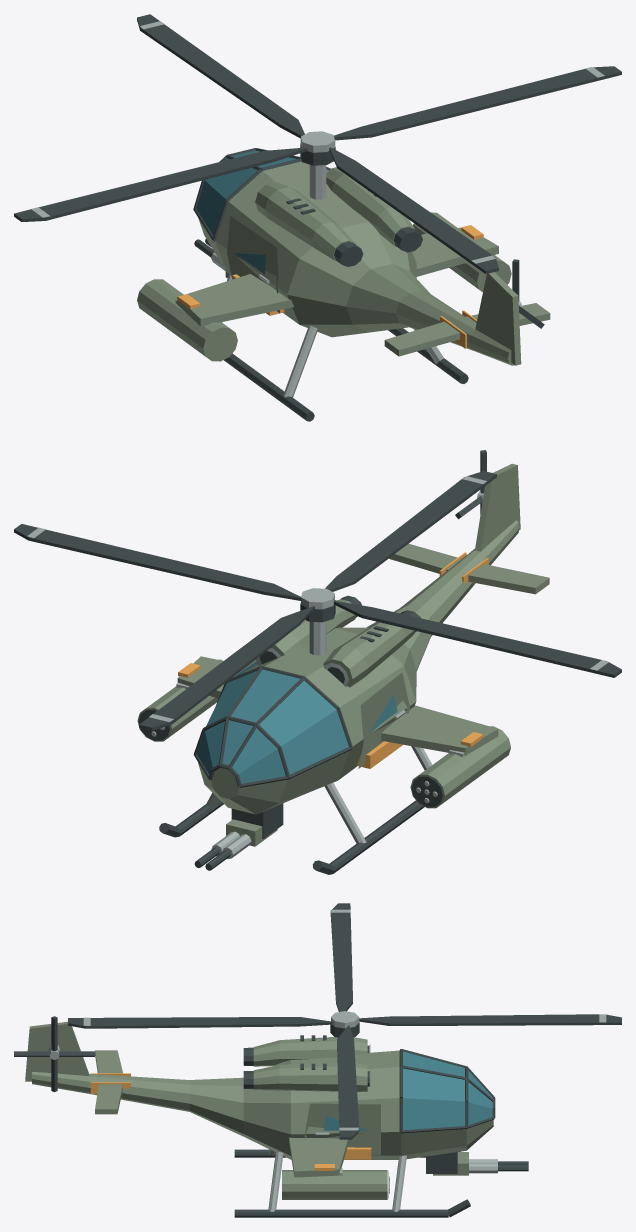
File: helicopter-v1.glb
3 renders of one model, top to bottom at view 1: azimuth 30°, elevation 25°; view 2: azimuth 150°, elevation 25°; view 3: azimuth 270°, elevation 25°, orthographic. The views are drawn at different scales.
Parts seen in each view (by area): view 1: helicopter-airframe, main-rotor-blades; view 2: helicopter-airframe, main-rotor-blades; view 3: helicopter-airframe, main-rotor-blades, tail-rotor-blades.
Part boxes in pixels (x1,y1,x2,y2): helicopter-airframe: [137, 143, 550, 421]; main-rotor-blades: [14, 14, 621, 273]; helicopter-airframe: [137, 463, 549, 874]; main-rotor-blades: [14, 471, 621, 730]; helicopter-airframe: [25, 1021, 528, 1217]; main-rotor-blades: [68, 903, 621, 1139]; tail-rotor-blades: [14, 1016, 94, 1092].
Bounding box in the file's own units: 24.6 × 8.64 × 27.
